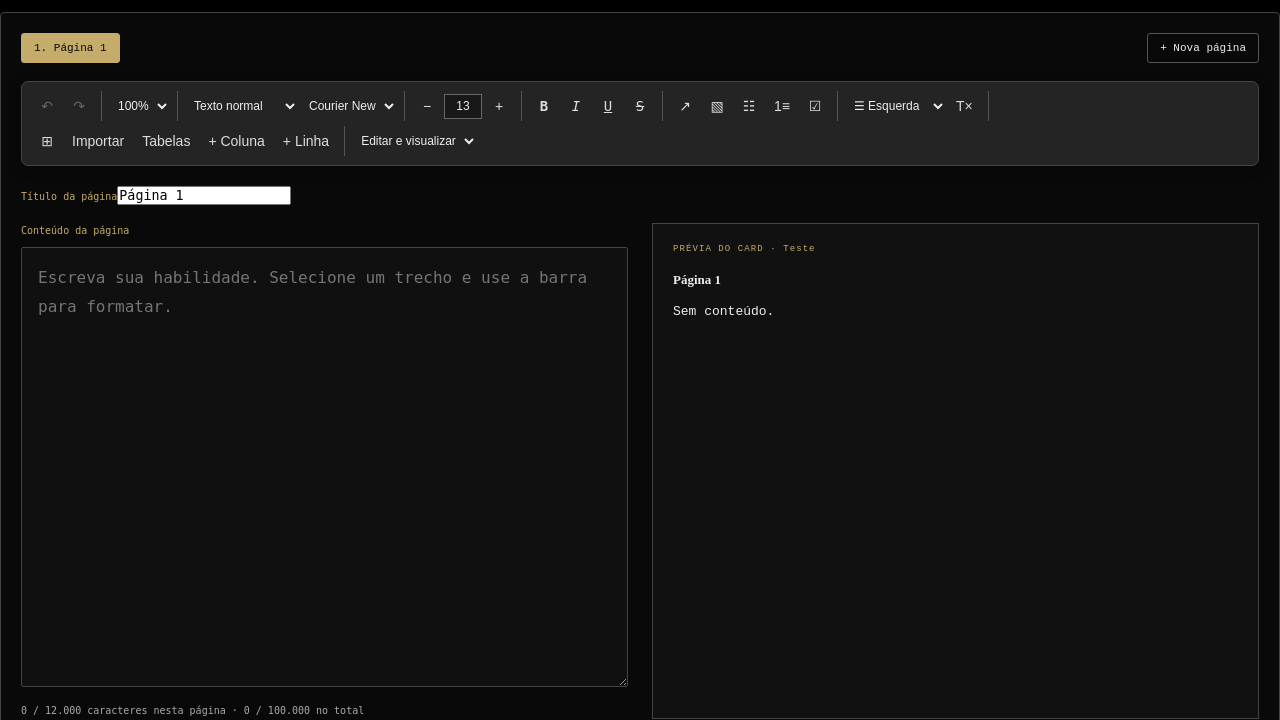
barra formata seleção, desfaz e refaz sem perder a página
The image size is (1280, 720).
Step 1. Replace the text in the text box labelled "Conteúdo da página" with "Efeito da habilidade" → point(324, 467), box [21,247,628,687]
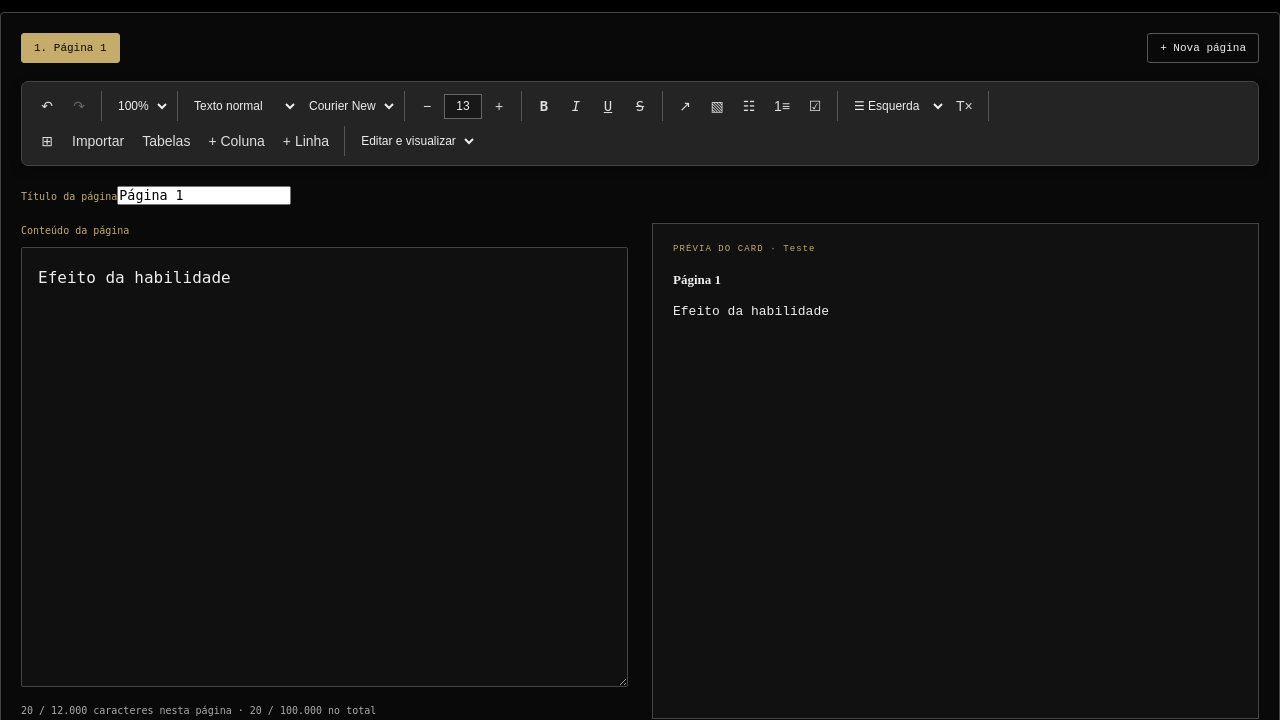
Step 2. Click the button named "Negrito" → point(544, 106), box [529,91,559,121]
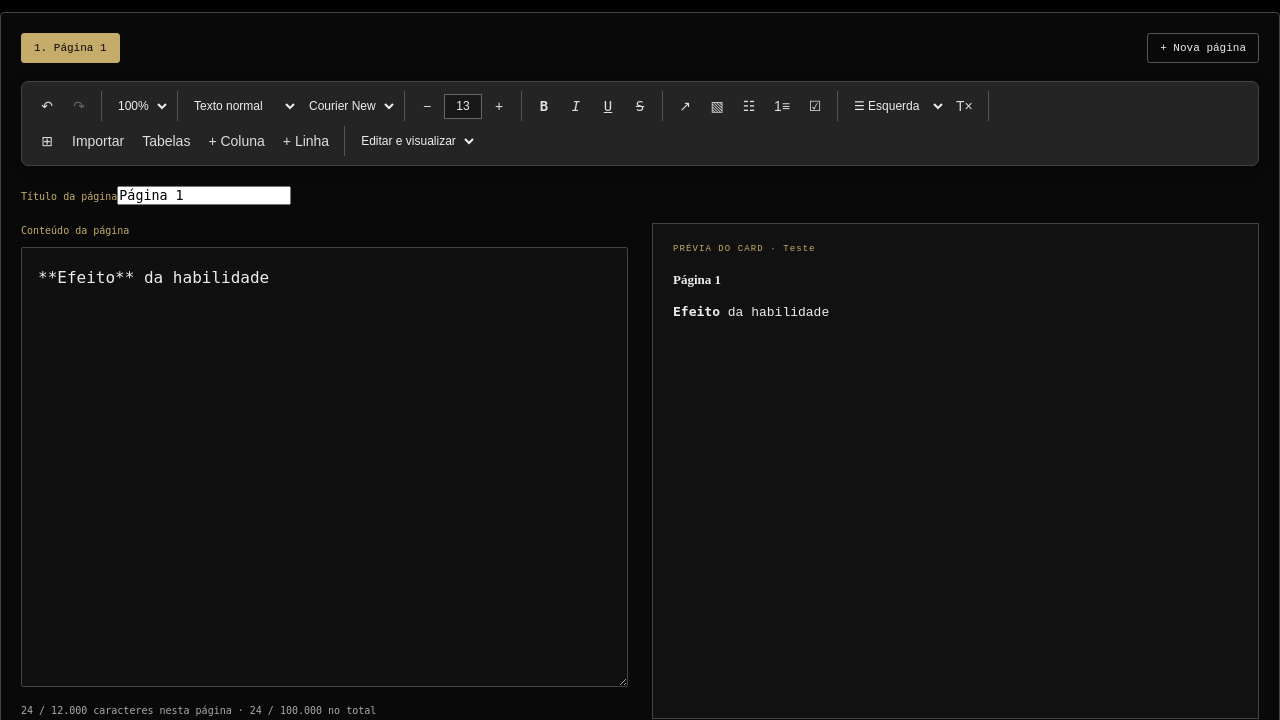
Check: the text box labelled "Conteúdo da página" holds "**Efeito** da habilidade", box [21,247,628,687]
Step 3. Click the button named "Desfazer" → point(47, 106), box [32,91,62,121]
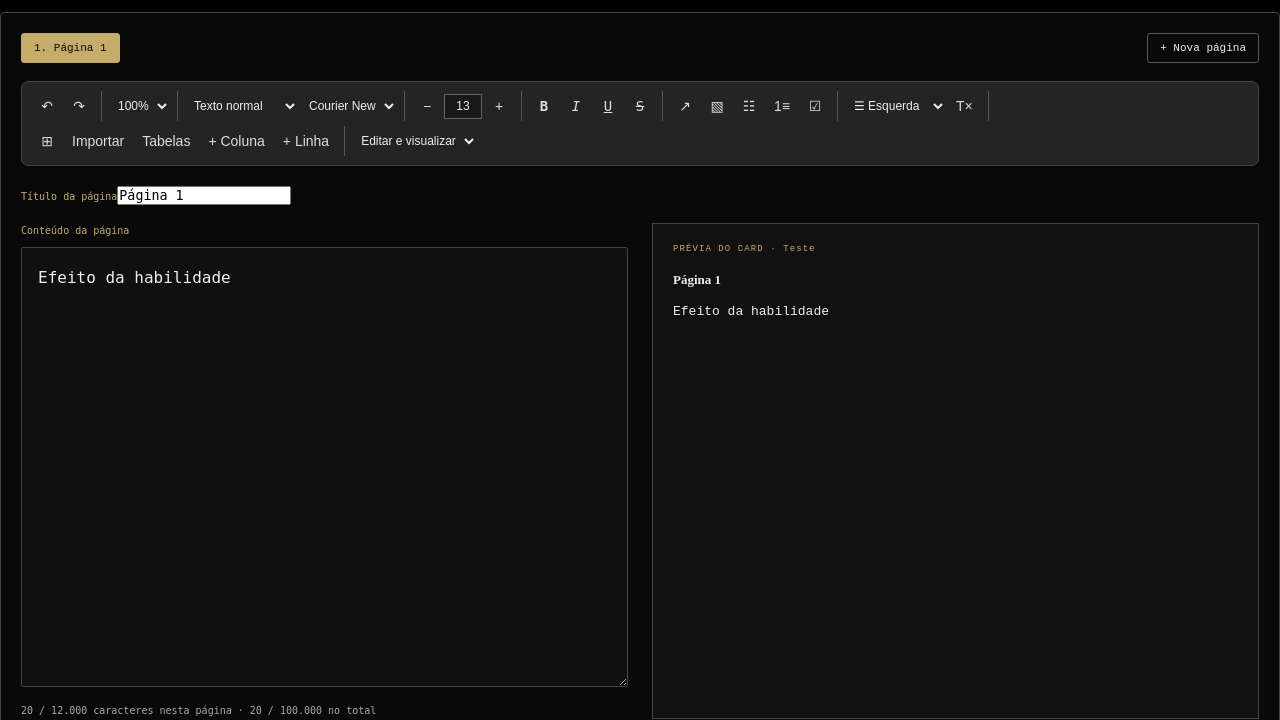
Step 4. Click the button named "Refazer" → point(79, 106), box [64,91,94,121]
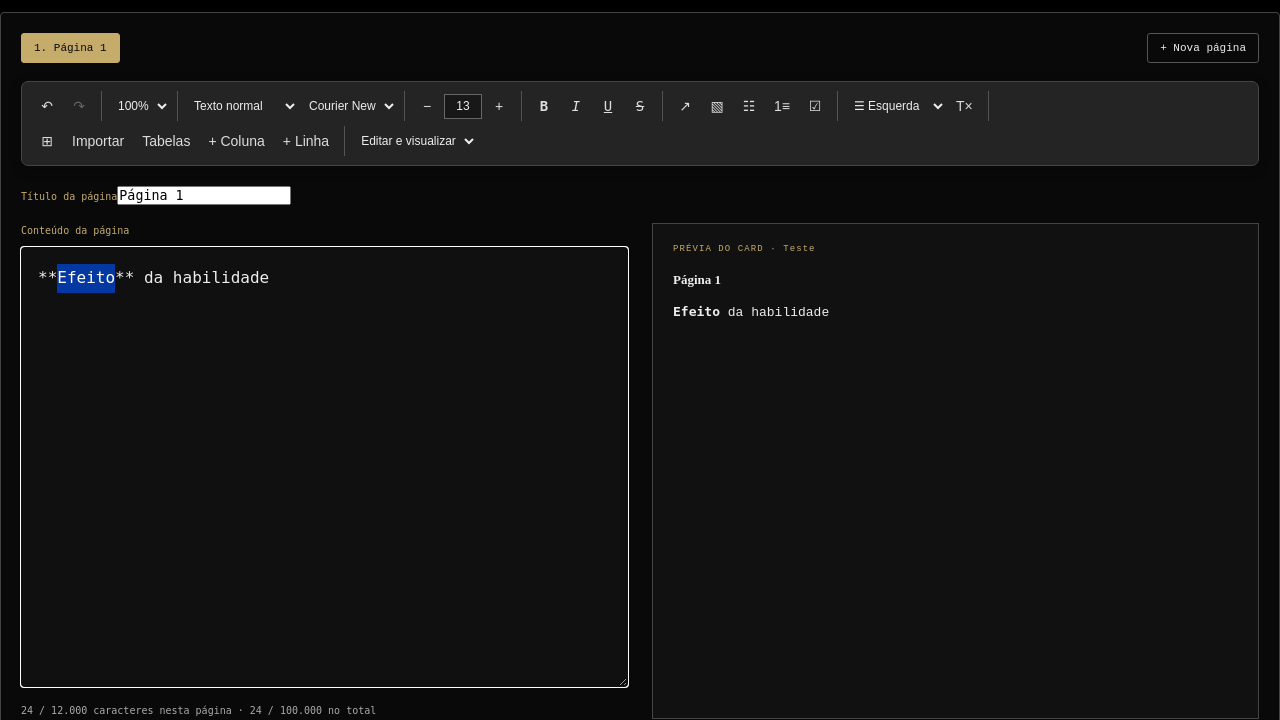
Check: the text box labelled "Conteúdo da página" holds "**Efeito** da habilidade", box [21,247,628,687]
